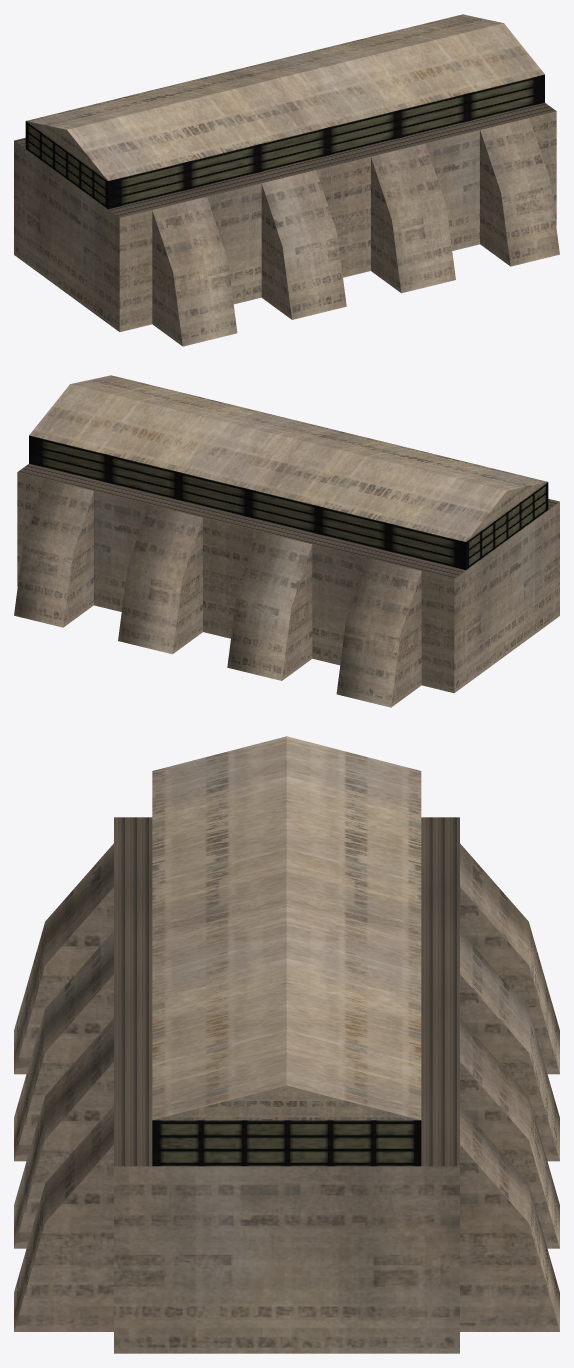
File: Dsrt03.fbx
3 renders of one model, top to bottom at view 1: azimuth 30°, elevation 25°; view 2: azimuth 150°, elevation 25°; view 3: azimuth 270°, elevation 25°, orthographic. The views are drawn at different scales.
Visible parts, largest first — view 1: Dsrt03; view 2: Dsrt03; view 3: Dsrt03.
Boxes of the visible parts, left/top/right/bottom form: Dsrt03: left=14, top=14, right=559, bottom=346; Dsrt03: left=14, top=375, right=559, bottom=707; Dsrt03: left=14, top=736, right=559, bottom=1353.
Bounding box in the file's own units: 256 × 91.68 × 169.
